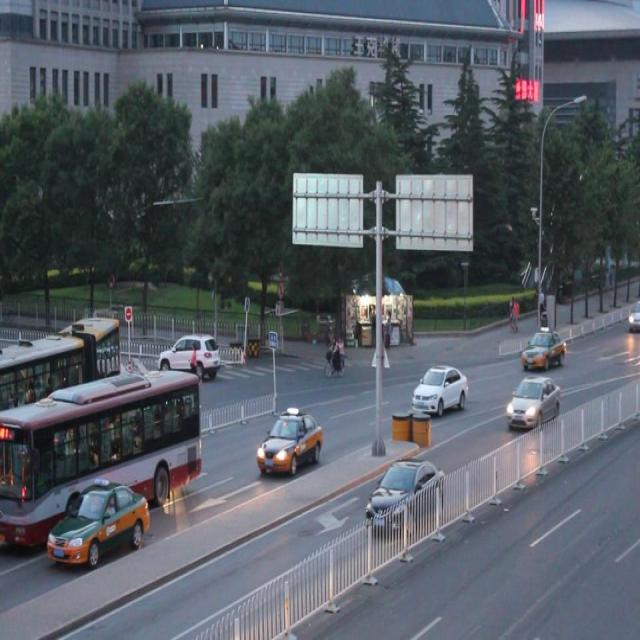car: (48, 473, 149, 568), (364, 454, 444, 538), (255, 404, 321, 478), (410, 361, 468, 419), (504, 373, 560, 432), (159, 332, 218, 384), (520, 324, 564, 372), (128, 367, 172, 413)
van: (1, 372, 200, 544), (0, 318, 120, 416)
